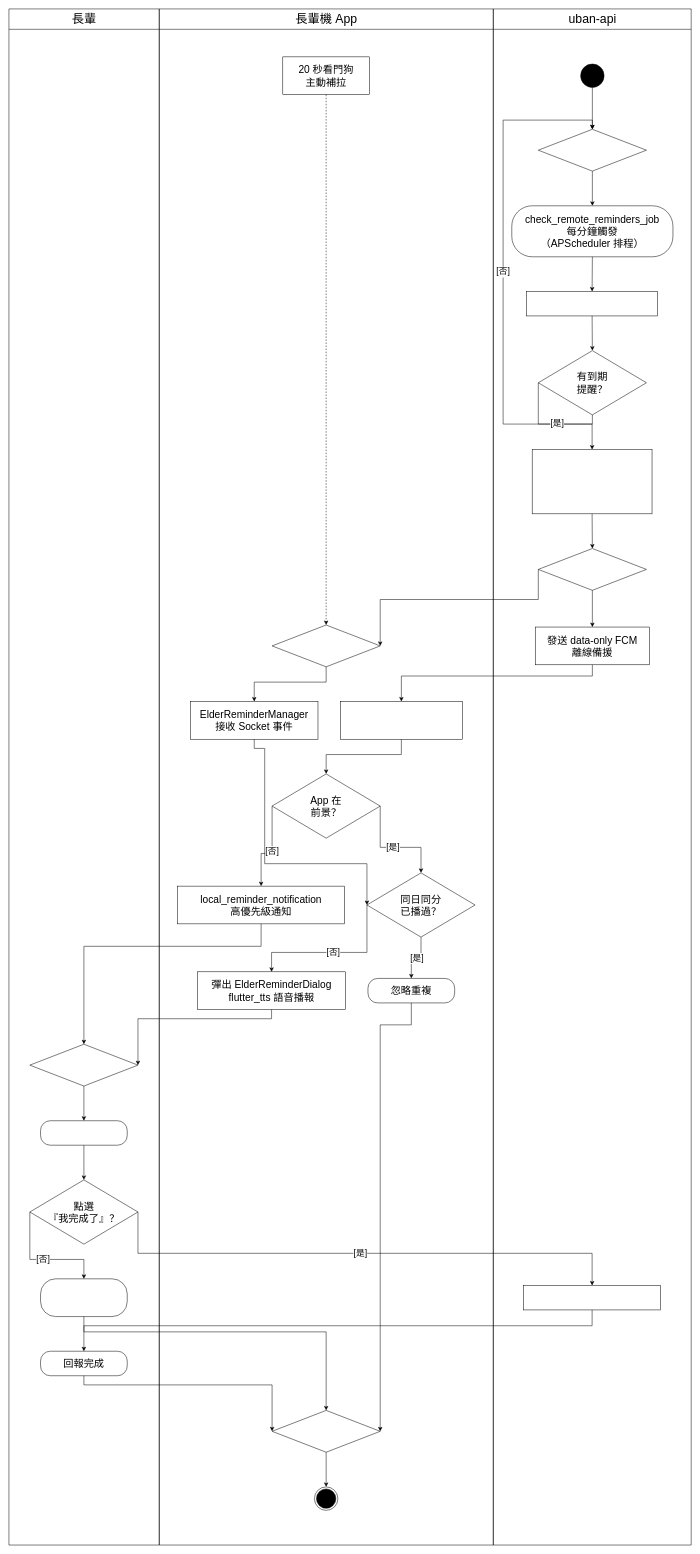
This 700x1554 diagram has some shape labels left out. Here are the shapes that lost their labels. From the top down, the centre of each, then its label:
At point 592,303: "掃描 remote_reminders".
At point 592,481: "emit_threadsafe(' remote-reminder') 推 comm_elder_id 與 elder_id 房間".
At point 592,569: "分支選擇？".
At point 401,720: "firebase_bg_handler 接收 FCM".
At point 83,1132: "聽到提醒".
At point 83,1297: "維持未完成 不重複轟炸".
At point 592,1297: "complete 回報提醒已完成".
